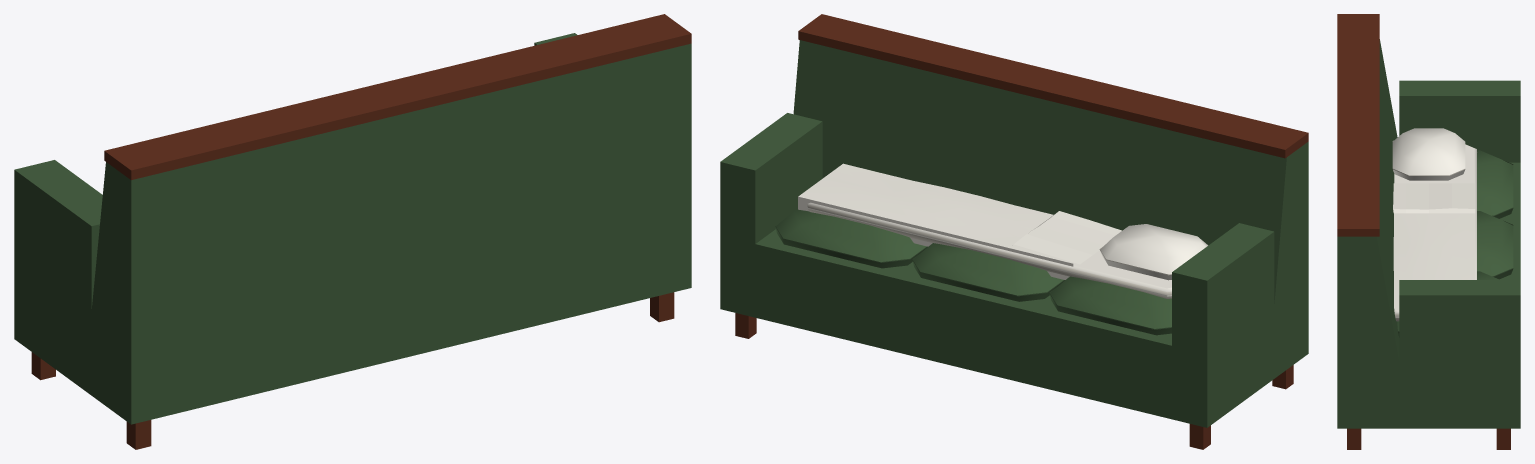
3 renders of one model, left to right at view 1: azimuth 30°, elevation 25°; view 2: azimuth 150°, elevation 25°; view 3: azimuth 270°, elevation 25°, orthographic. The views are drawn at different scales.
Parts seen in each view (by area): view 1: parametric-variant-sofa-1st-004793229dbe0016fff6; view 2: parametric-variant-sofa-1st-004793229dbe0016fff6; view 3: parametric-variant-sofa-1st-004793229dbe0016fff6.
Boxes of the visible parts, x1,y1,x2,y2 form: parametric-variant-sofa-1st-004793229dbe0016fff6: (14, 14, 691, 449); parametric-variant-sofa-1st-004793229dbe0016fff6: (720, 14, 1308, 449); parametric-variant-sofa-1st-004793229dbe0016fff6: (1337, 14, 1520, 449).
Bounding box in the file's own units: 1.8 × 0.88 × 0.65.
